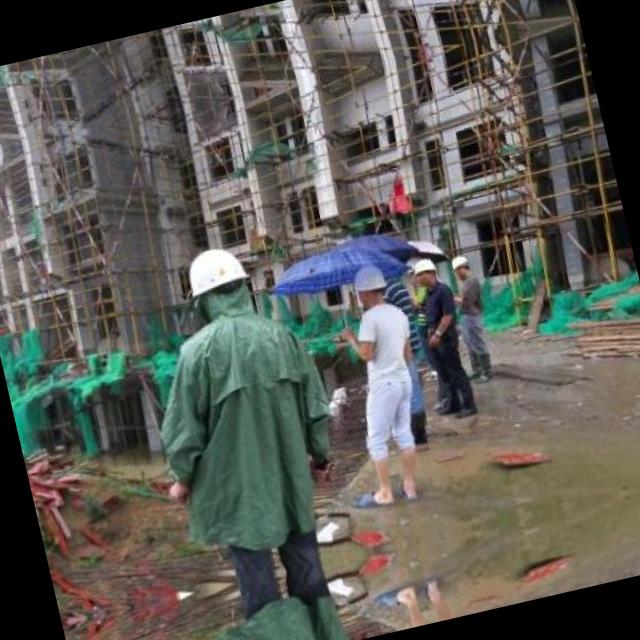helmet: (174, 237, 262, 336), (343, 253, 393, 310), (410, 252, 440, 289), (446, 250, 472, 282)
